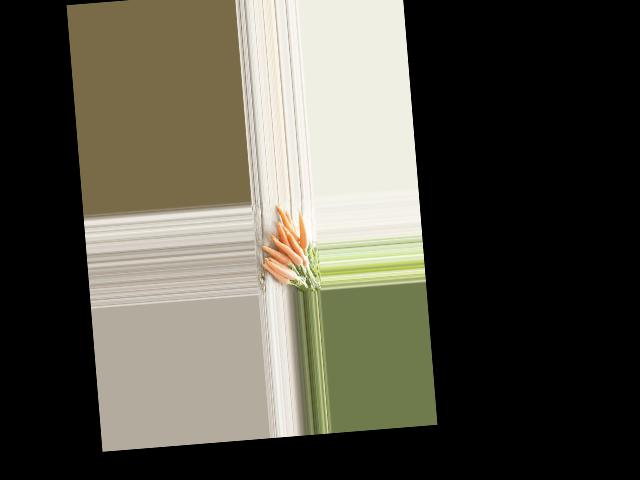carrot: (296, 210, 311, 249)
